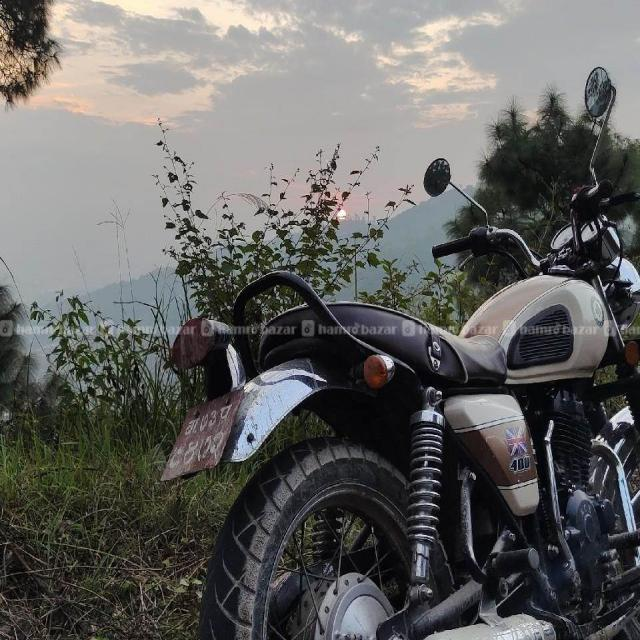License-plate: (154, 392, 250, 483)
